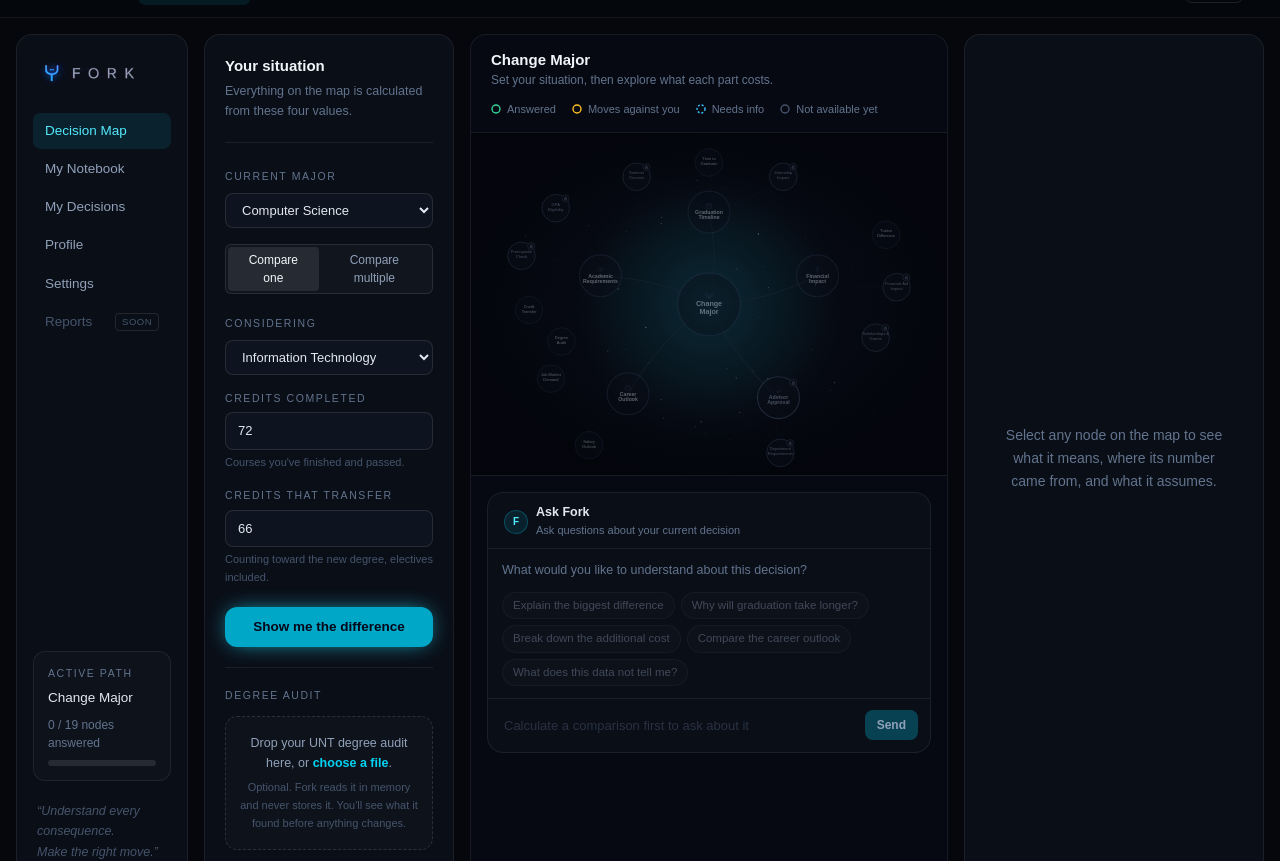
Test: signed out › makes no account request and offers sign-in
The image size is (1280, 861).
Click the button "Show me the difference" at [329, 627], box [225,607,433,647]
(page scrolled)
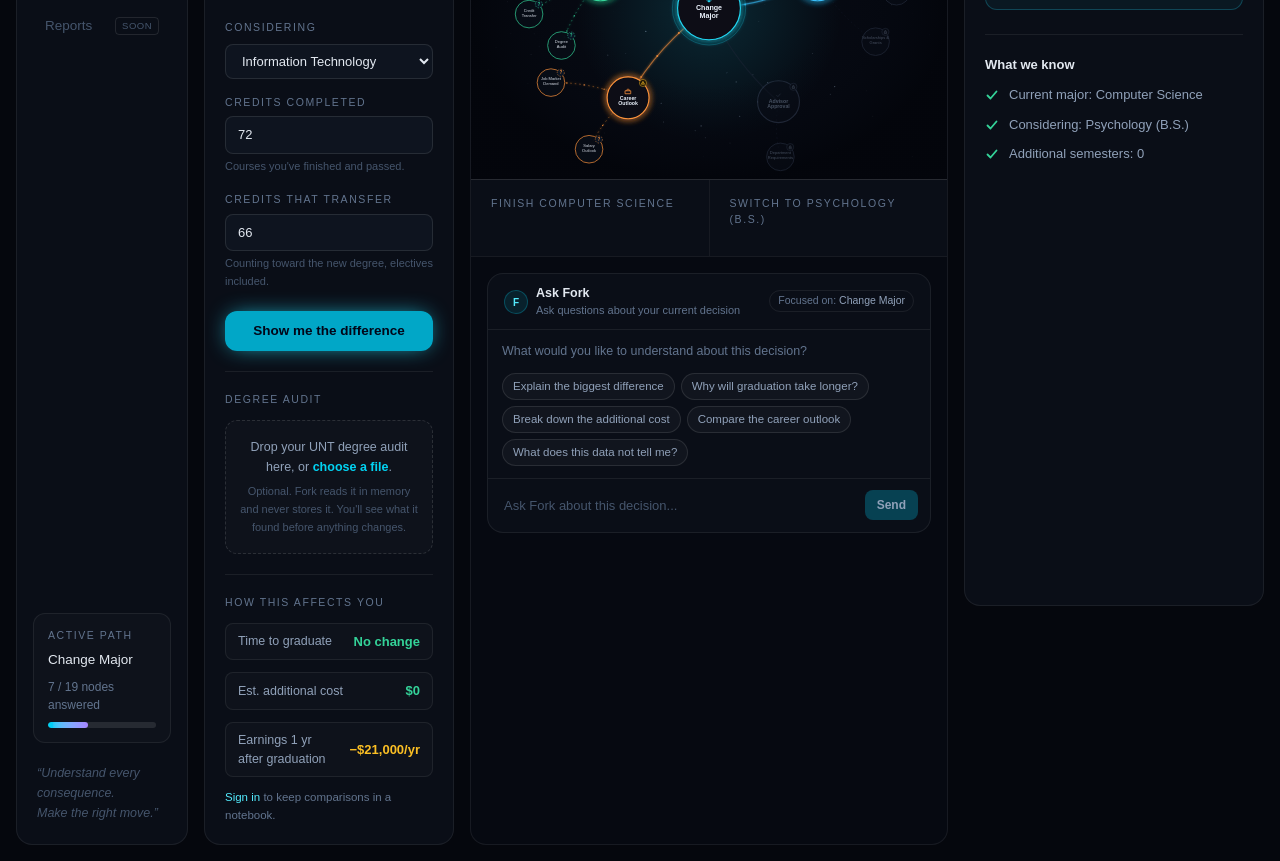
Now the text "How this affects you" is shown, box [225,596,384,608]
Now the text "Sign in to keep comparisons in a notebook." is shown, box [225,791,391,821]
